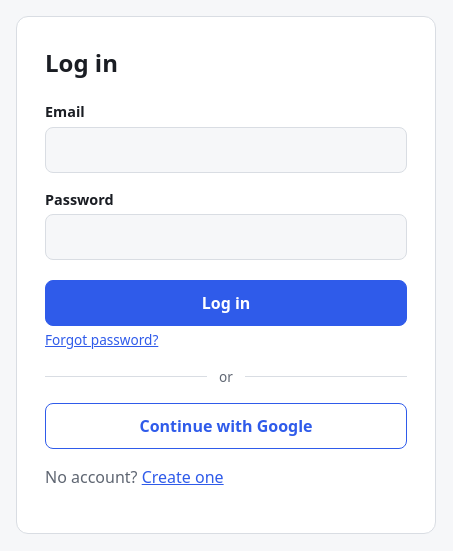
Test: login form › logs in and shows the profile
Type "erin@example.com" into the field labelled "Email".
click(226, 150); type("erin@example.com")  # box [45,127,407,173]
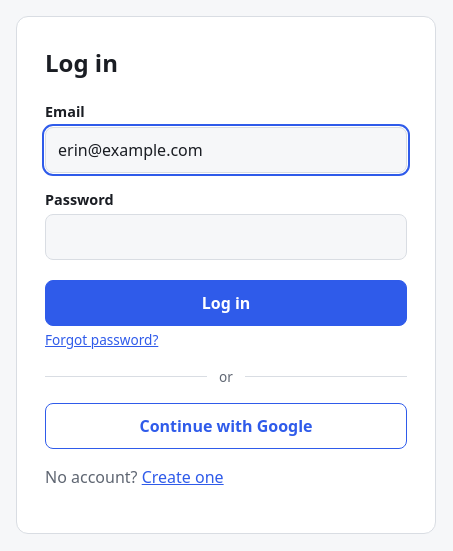
Type "correct-horse-battery" into the password field labelled "Password".
click(226, 237); type("correct-horse-battery")  # box [45,214,407,260]
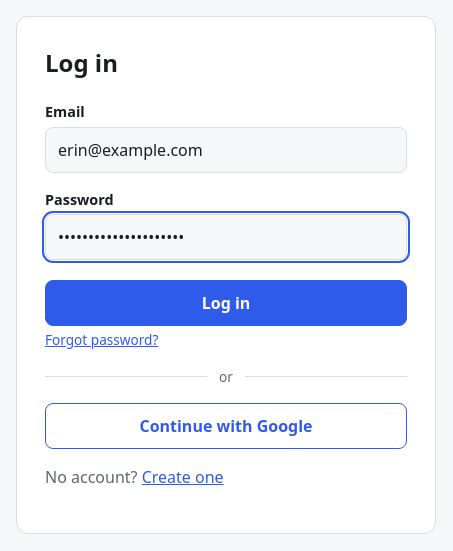
Click the button "Log in".
click(226, 303)  # box [45,280,407,326]
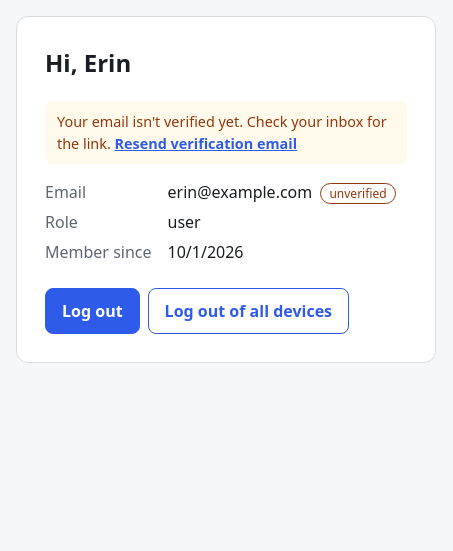
expect the heading "Hi, Erin" is shown: met, box [45,46,131,79]
expect the text "unverified" is shown: met, box [320,183,396,204]
